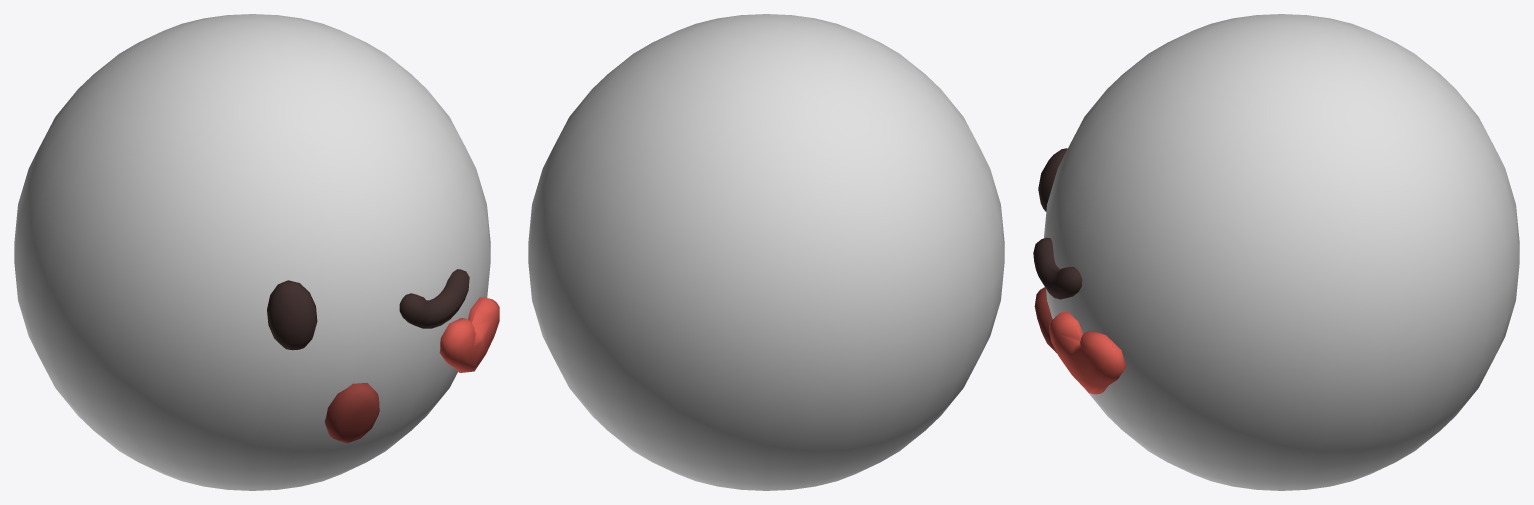
The model's file is face_kiss.glb.
The picture shows the model from 3 angles, left to right: view 1: azimuth 30°, elevation 25°; view 2: azimuth 150°, elevation 25°; view 3: azimuth 270°, elevation 25°; orthographic projection.
Visible parts, largest first — view 1: face_kiss; view 2: face_kiss; view 3: face_kiss.
Boxes of the visible parts, box(x1,y1,x2,y2) form: face_kiss: box(14, 14, 499, 490); face_kiss: box(528, 14, 1004, 490); face_kiss: box(1033, 14, 1519, 490).
Bounding box in the file's own units: 1 × 1 × 1.02.
